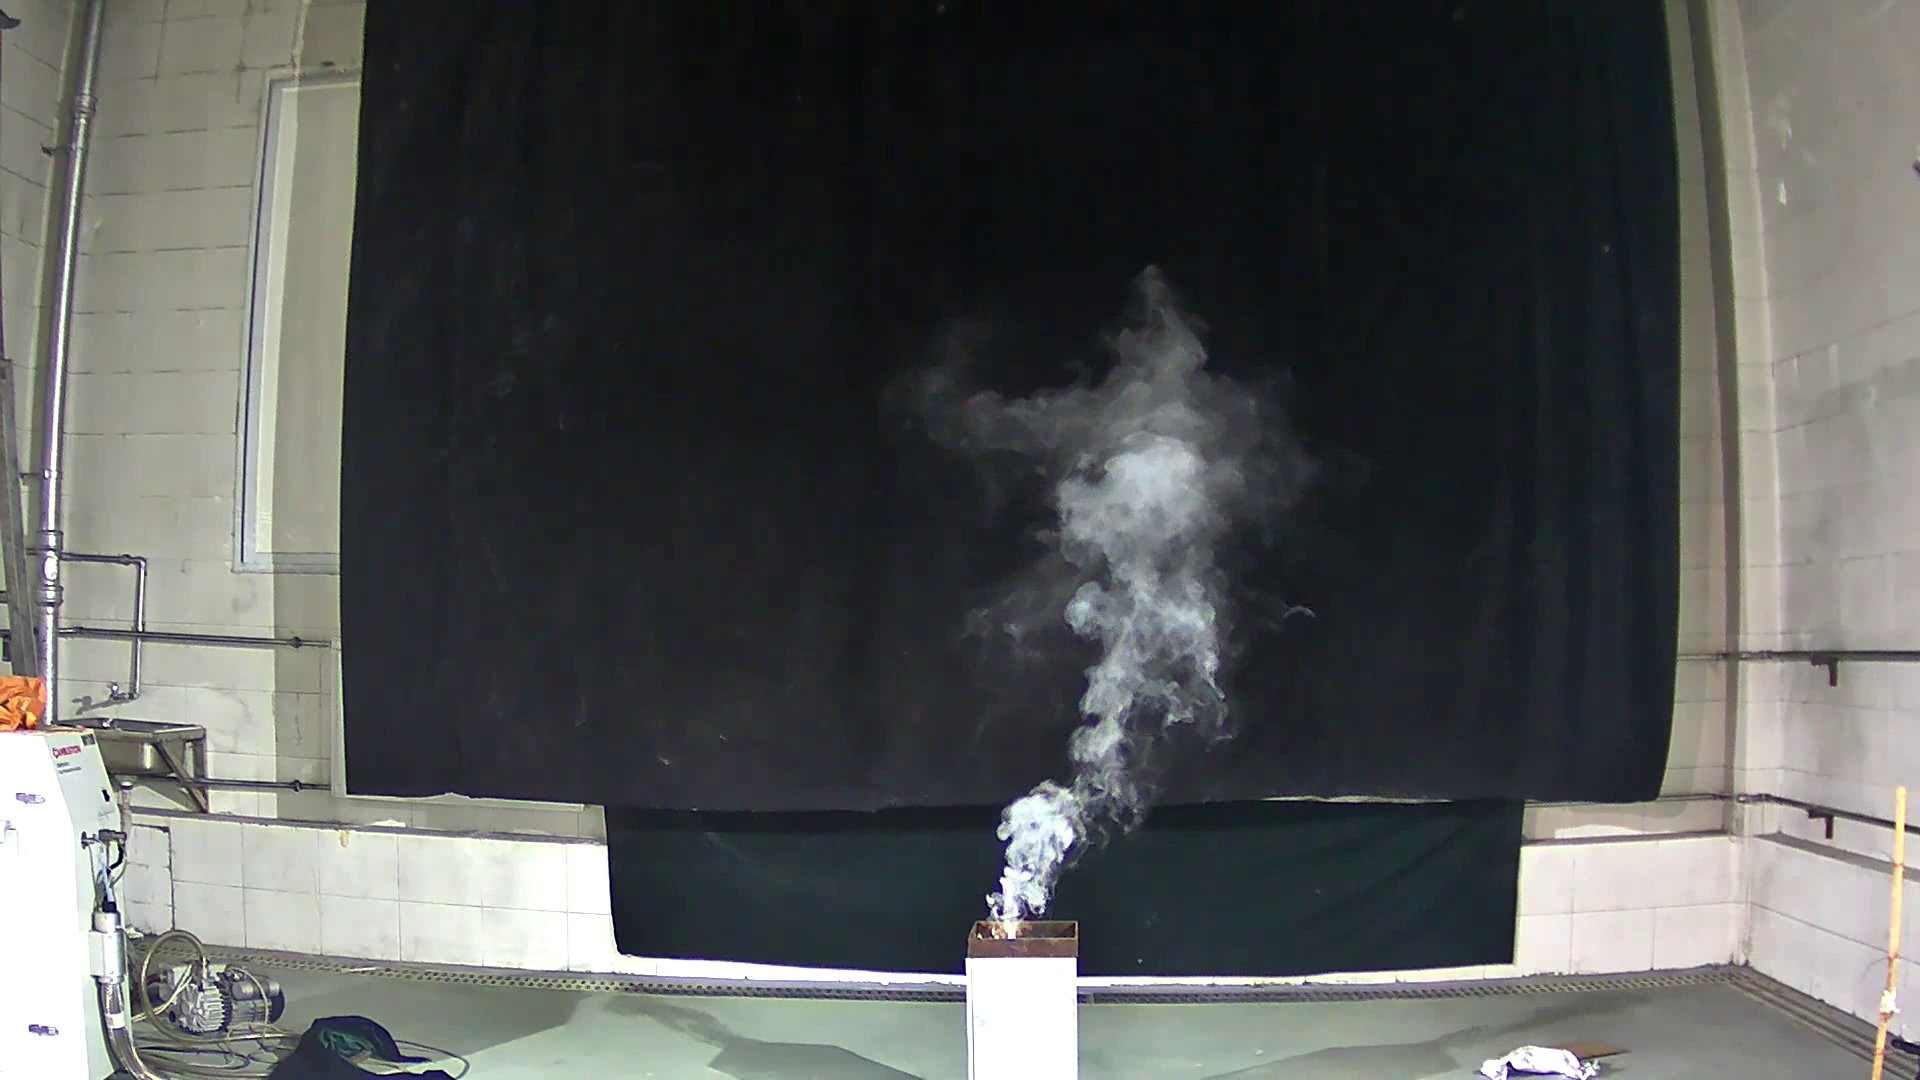smoke: (895, 229, 1311, 932)
